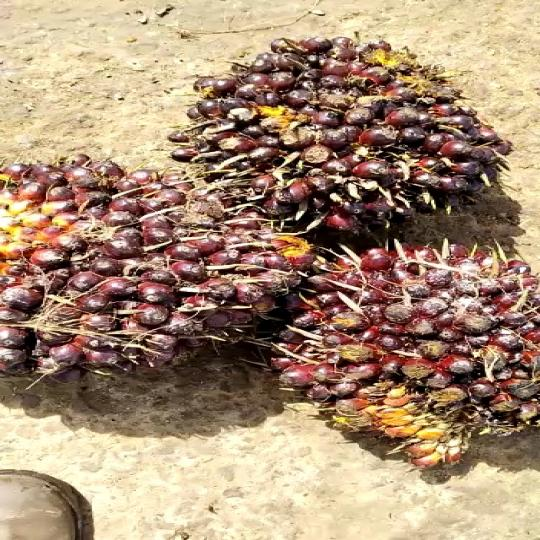kurang masak: (240, 233, 540, 482), (0, 147, 301, 388), (154, 36, 512, 238)
